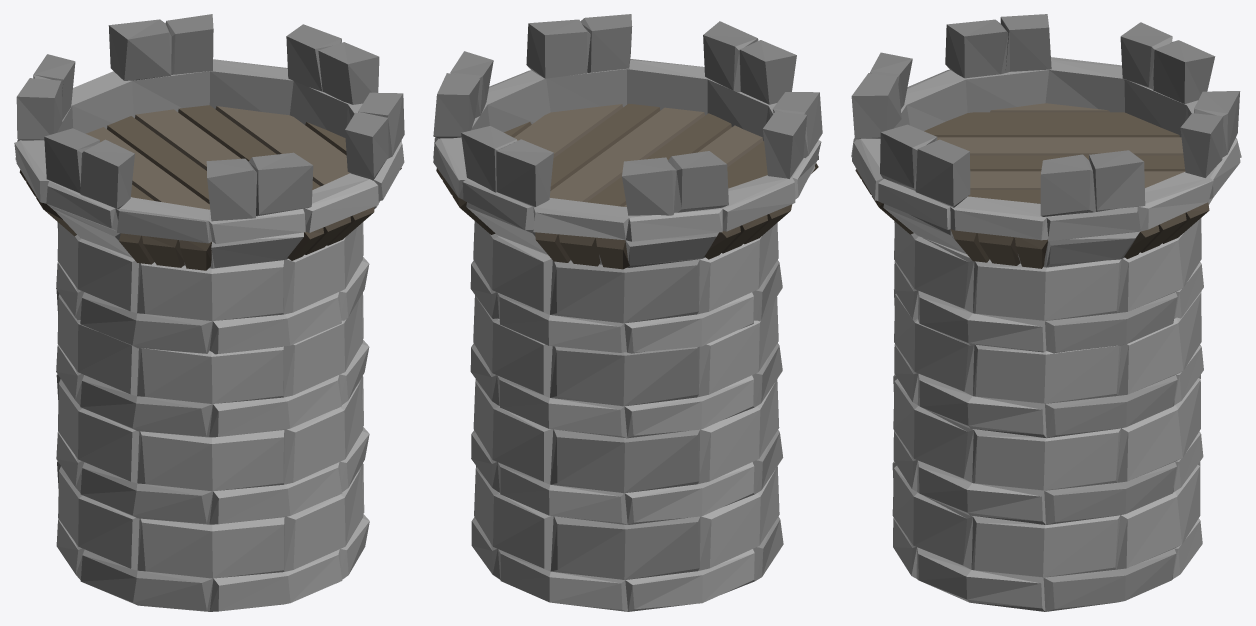
Rendered from _TOWER_04_FULL.fbx.
3 views of the same model, side by side, from view 1: azimuth 30°, elevation 25°; view 2: azimuth 150°, elevation 25°; view 3: azimuth 270°, elevation 25° (orthographic).
Parts seen in each view (by area): view 1: TOWER_4_UP_01, TOWER_4_BLOCK_01, TOWER_4_BLOCK_02, TOWER_4_BLOCK_04, TOWER_4_BLOCK_03; view 2: TOWER_4_UP_01, TOWER_4_BLOCK_01, TOWER_4_BLOCK_02, TOWER_4_BLOCK_04, TOWER_4_BLOCK_03; view 3: TOWER_4_UP_01, TOWER_4_BLOCK_01, TOWER_4_BLOCK_02, TOWER_4_BLOCK_04, TOWER_4_BLOCK_03.
Part boxes in pixels (<box>): TOWER_4_UP_01: <box>14,14,404,270</box>; TOWER_4_BLOCK_01: <box>56,461,369,611</box>; TOWER_4_BLOCK_02: <box>56,374,369,524</box>; TOWER_4_BLOCK_04: <box>56,222,369,354</box>; TOWER_4_BLOCK_03: <box>56,290,369,437</box>; TOWER_4_UP_01: <box>433,14,822,269</box>; TOWER_4_BLOCK_01: <box>471,466,783,611</box>; TOWER_4_BLOCK_02: <box>471,379,783,524</box>; TOWER_4_BLOCK_04: <box>470,221,782,353</box>; TOWER_4_BLOCK_03: <box>470,295,782,438</box>; TOWER_4_UP_01: <box>851,14,1241,268</box>; TOWER_4_BLOCK_01: <box>892,461,1202,611</box>; TOWER_4_BLOCK_02: <box>893,374,1203,524</box>; TOWER_4_BLOCK_04: <box>894,218,1203,353</box>; TOWER_4_BLOCK_03: <box>894,289,1203,438</box>.
Size of the model in its own units: 663 by 854 by 664.
